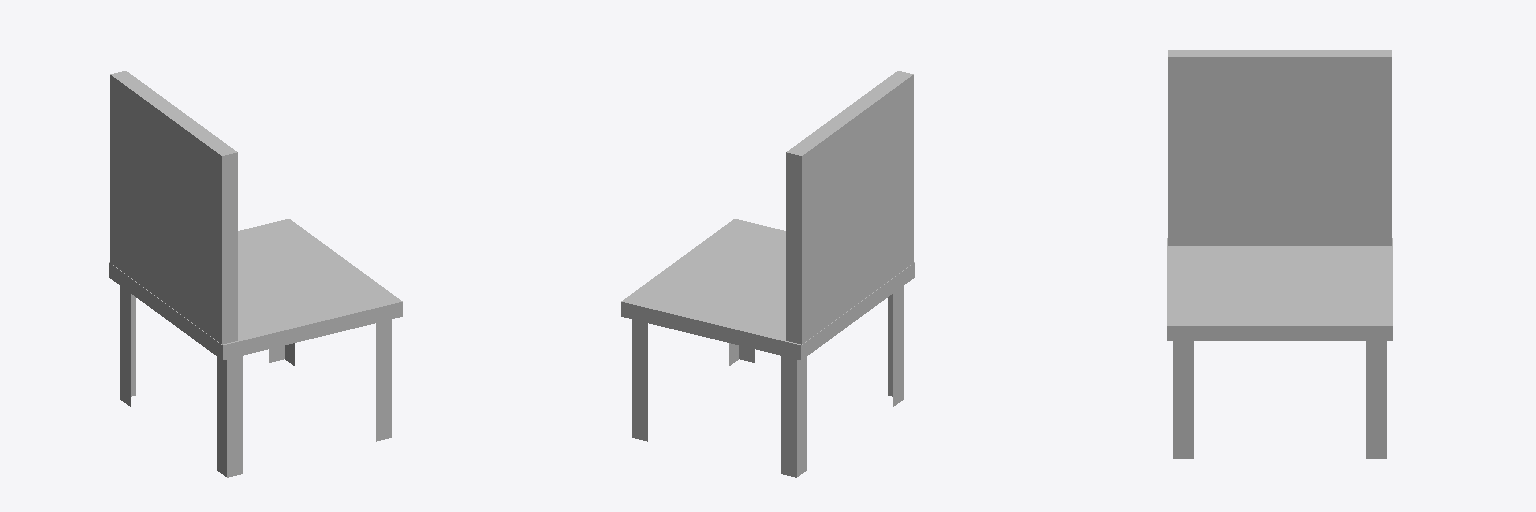
The model's file is chair1.obj.
3 views of the same model, side by side, from view 1: azimuth 30°, elevation 25°; view 2: azimuth 150°, elevation 25°; view 3: azimuth 270°, elevation 25° (orthographic).
Parts seen in each view (by area): view 1: Cube.006; view 2: Cube.006; view 3: Cube.006.
Boxes of the visible parts, x1=… form: Cube.006: x1=109, y1=71, x2=402, y2=477; Cube.006: x1=621, y1=71, x2=914, y2=477; Cube.006: x1=1167, y1=50, x2=1392, y2=458.
Size of the model in its own units: 0.8298 by 1.43 by 0.9052.